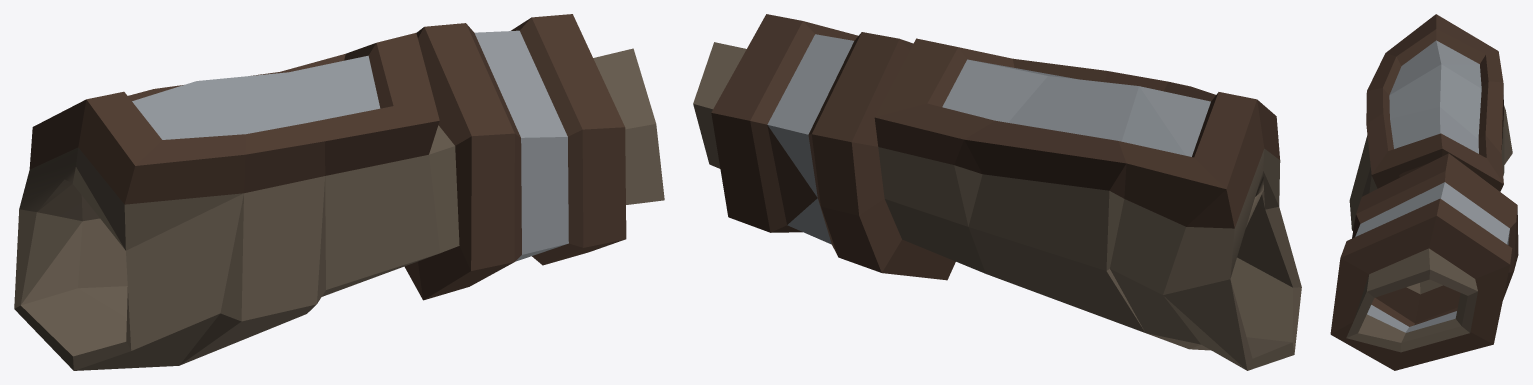
Rendered from Chr_ArmLowerLeft_Female_10_Drop.fbx.
3 renders of one model, left to right at view 1: azimuth 30°, elevation 25°; view 2: azimuth 150°, elevation 25°; view 3: azimuth 270°, elevation 25°, orthographic. The views are drawn at different scales.
Visible parts, largest first — view 1: Chr_ArmLowerLeft_Female_10_Static; view 2: Chr_ArmLowerLeft_Female_10_Static; view 3: Chr_ArmLowerLeft_Female_10_Static.
Part boxes in pixels (bbox=[...]): Chr_ArmLowerLeft_Female_10_Static: bbox=[14, 14, 664, 370]; Chr_ArmLowerLeft_Female_10_Static: bbox=[693, 14, 1301, 370]; Chr_ArmLowerLeft_Female_10_Static: bbox=[1330, 14, 1518, 370].
Bounding box in the file's own units: 29.45 × 13.56 × 11.22.
